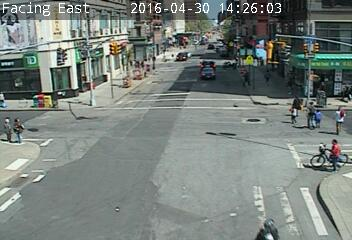neg: (180, 151, 211, 192), (319, 131, 348, 170), (25, 137, 54, 175), (54, 173, 80, 208), (214, 107, 238, 139), (104, 123, 128, 154), (27, 86, 50, 116), (71, 68, 93, 98), (25, 37, 47, 66), (157, 78, 178, 106), (206, 37, 226, 65), (252, 198, 270, 222), (299, 39, 315, 60), (251, 54, 264, 71)
